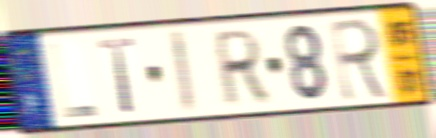8: (284, 22, 331, 103)
I: (166, 27, 199, 117)
L: (47, 40, 100, 121)
R: (328, 15, 392, 105), (213, 26, 270, 110)
T: (96, 35, 140, 117)
